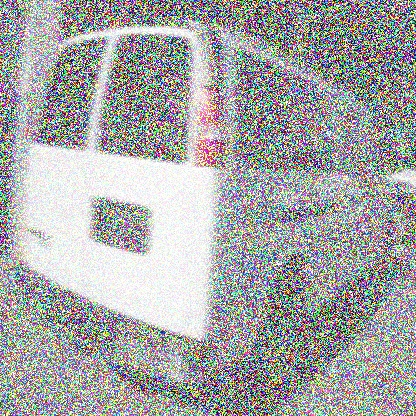Vehicle: (8, 13, 398, 414)
